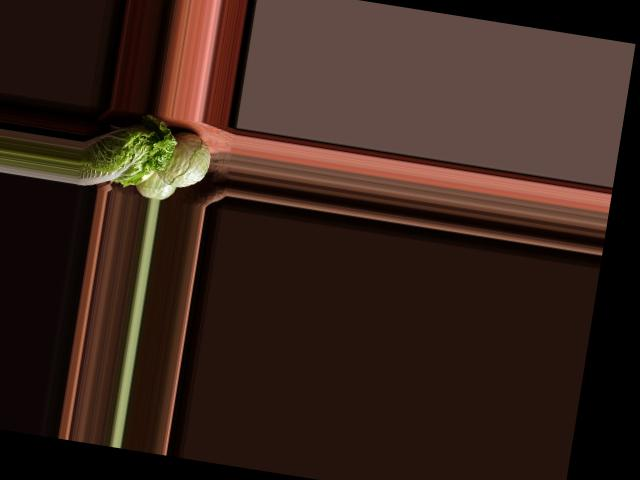lettuce: (78, 104, 180, 196)
